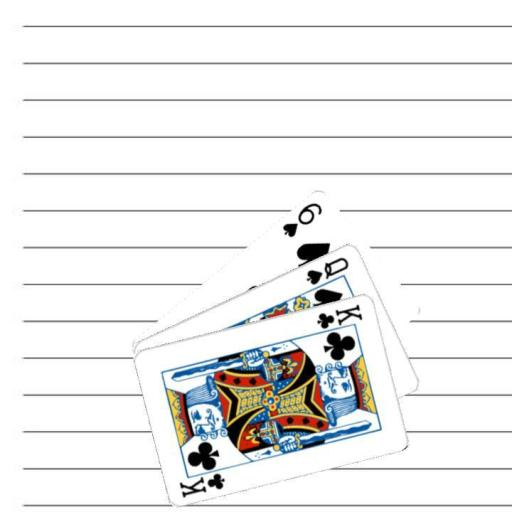6S: (280, 198, 325, 239)
KC: (176, 463, 229, 498), (312, 301, 364, 336)
QS: (303, 253, 351, 286)
